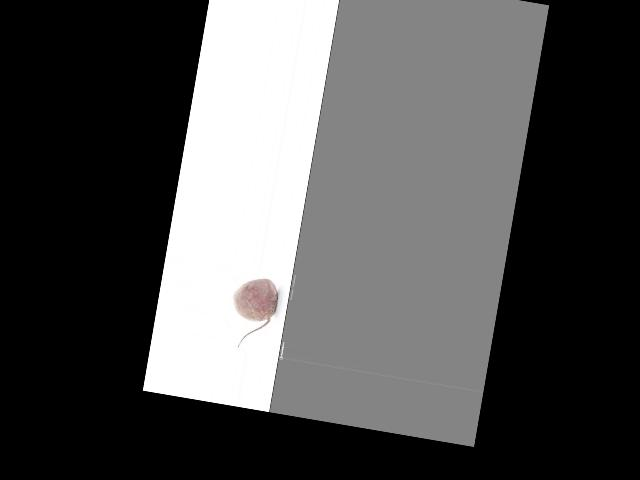beet: (225, 273, 281, 352)
